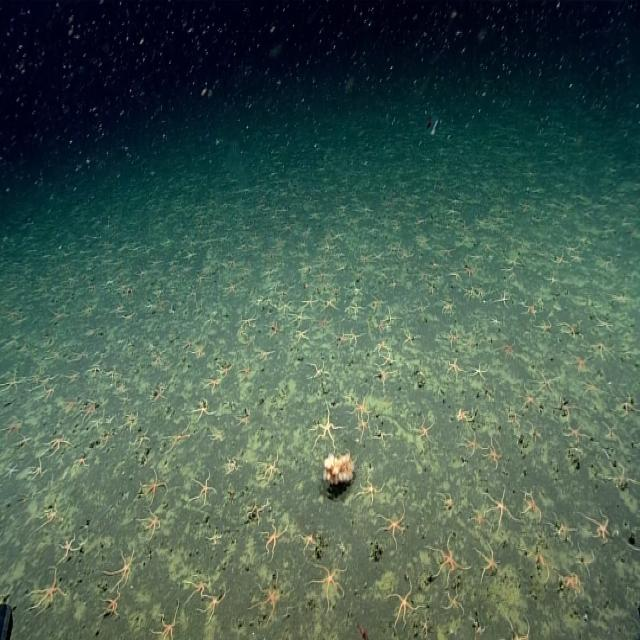brittle-stars: (429, 538, 466, 583), (30, 568, 66, 612), (385, 581, 416, 627), (309, 563, 346, 600), (313, 404, 341, 451), (257, 579, 288, 621), (484, 488, 514, 526), (380, 503, 408, 542), (262, 518, 290, 556), (524, 548, 557, 579), (109, 548, 135, 586), (200, 588, 228, 622), (140, 470, 167, 505), (154, 606, 181, 640), (602, 460, 634, 488), (584, 511, 611, 543), (190, 472, 213, 508), (165, 423, 192, 452), (504, 614, 534, 640), (558, 567, 582, 599), (551, 513, 575, 545), (477, 544, 500, 577), (140, 507, 163, 538), (261, 454, 284, 484), (187, 571, 212, 598), (58, 532, 82, 560), (358, 476, 381, 505), (533, 372, 557, 398), (101, 590, 123, 616), (248, 498, 270, 524), (40, 502, 61, 529), (563, 421, 587, 444), (460, 433, 480, 459), (471, 506, 491, 532), (526, 494, 545, 521), (592, 339, 614, 362), (582, 377, 603, 401), (415, 416, 435, 441), (616, 395, 636, 420), (445, 588, 464, 614), (1, 372, 23, 394), (568, 350, 590, 372), (2, 416, 23, 439), (48, 434, 72, 454), (486, 441, 503, 469), (576, 548, 594, 574), (193, 400, 215, 421), (560, 323, 582, 344), (555, 398, 577, 419), (299, 529, 319, 552), (520, 387, 538, 412), (32, 374, 58, 391), (29, 457, 47, 481), (498, 338, 517, 360), (446, 357, 464, 380), (374, 364, 394, 384), (80, 401, 98, 423), (373, 424, 391, 446), (594, 316, 613, 336), (353, 396, 370, 418), (629, 527, 640, 560), (310, 359, 329, 378), (456, 406, 474, 426), (36, 386, 56, 404), (50, 307, 71, 324), (470, 361, 488, 380), (3, 461, 20, 481), (527, 424, 542, 446), (121, 412, 138, 431), (346, 302, 365, 319), (152, 384, 168, 404), (444, 326, 460, 346), (226, 454, 241, 475), (604, 423, 619, 444), (438, 489, 452, 511), (412, 300, 429, 318), (469, 620, 488, 636), (404, 326, 419, 346), (355, 416, 370, 436), (45, 349, 65, 364), (205, 376, 222, 393), (209, 427, 226, 444), (241, 311, 258, 328), (256, 347, 274, 363), (536, 318, 552, 336), (62, 399, 78, 417), (233, 410, 251, 426), (347, 327, 362, 346), (495, 290, 510, 309), (523, 301, 538, 320), (268, 318, 283, 337), (462, 286, 482, 300), (292, 327, 309, 343), (290, 311, 307, 327), (72, 347, 88, 364), (133, 431, 149, 448), (74, 454, 89, 472), (371, 293, 386, 311), (322, 296, 338, 312), (563, 241, 579, 257), (217, 360, 232, 377), (318, 314, 332, 332), (420, 615, 431, 637), (416, 234, 431, 250), (320, 240, 336, 255), (194, 343, 208, 360), (304, 294, 318, 311), (441, 299, 455, 316), (354, 251, 371, 265), (463, 335, 476, 353), (240, 360, 252, 379), (337, 331, 349, 350), (97, 432, 109, 451), (278, 300, 292, 316), (150, 256, 164, 272), (90, 361, 104, 377), (227, 280, 240, 297), (462, 264, 475, 281), (380, 350, 393, 367), (122, 308, 136, 323), (384, 311, 398, 326), (508, 410, 519, 429), (105, 365, 118, 381), (168, 258, 181, 274), (442, 244, 456, 258), (207, 531, 221, 545), (350, 282, 364, 296), (449, 269, 462, 283), (316, 268, 329, 282), (490, 314, 502, 329), (334, 228, 346, 243), (153, 351, 165, 366), (116, 380, 127, 396), (205, 318, 218, 331), (375, 342, 389, 354), (15, 437, 30, 448), (397, 250, 413, 260), (78, 308, 94, 318), (103, 414, 116, 426), (66, 372, 78, 385), (192, 304, 205, 316), (119, 392, 130, 406), (196, 275, 209, 286), (259, 270, 273, 280), (180, 340, 193, 350), (238, 326, 247, 338), (254, 298, 262, 310), (378, 321, 385, 334), (264, 296, 272, 307)
